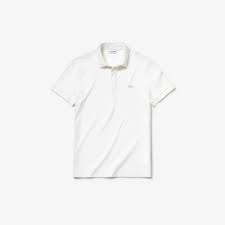C_polo shirt: (56, 43, 172, 190)
